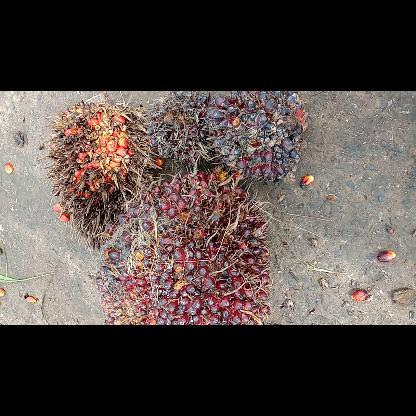TBS abnormal: (205, 90, 309, 188), (145, 91, 218, 167)
TBS masak: (93, 166, 275, 324)
Terlalu masak: (42, 91, 152, 255)
